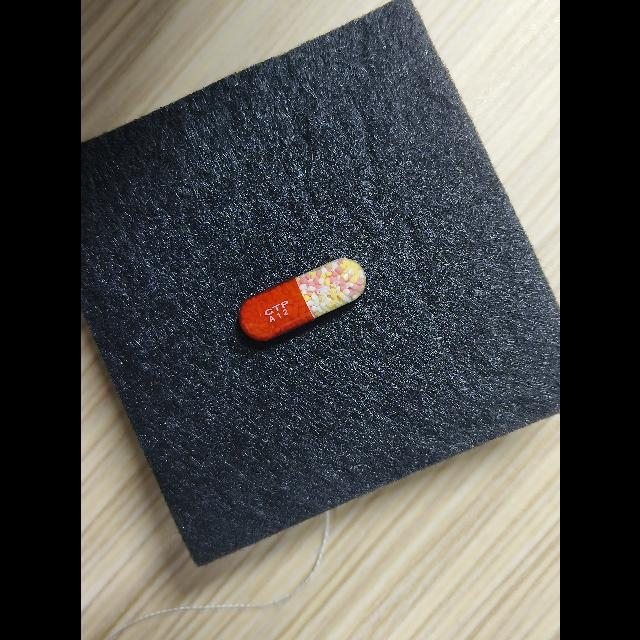Intact Capsule: (239, 258, 366, 341)
